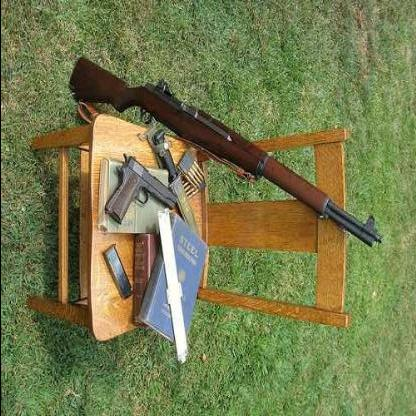rifle: (64, 54, 385, 251)
